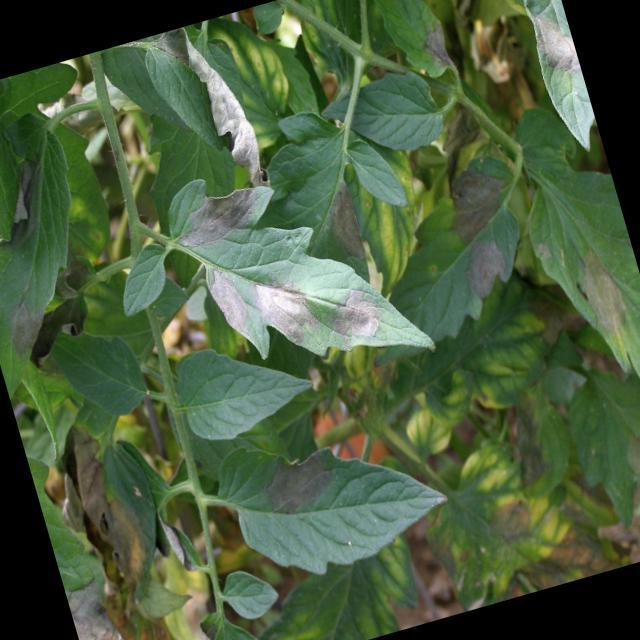Tomato healthy leaf: (170, 321, 324, 451), (318, 62, 450, 170), (45, 312, 156, 432), (108, 236, 176, 314)
Tomato late blight leaf: (148, 127, 430, 402), (198, 390, 464, 601), (488, 88, 640, 437), (346, 145, 552, 353), (39, 408, 205, 640), (0, 109, 126, 402), (473, 0, 603, 164), (363, 0, 464, 97)
